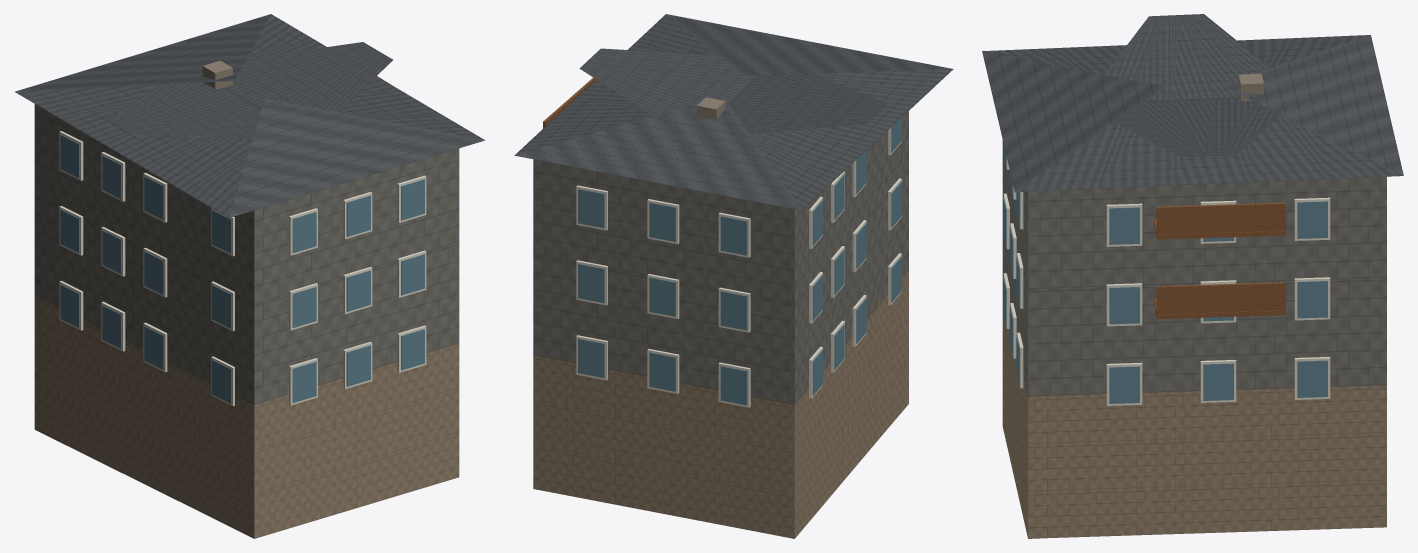
The model's file is core_0118.gltf.
The picture shows the model from 3 angles, left to right: view 1: azimuth 30°, elevation 25°; view 2: azimuth 150°, elevation 25°; view 3: azimuth 270°, elevation 25°; orthographic projection. The views are drawn at different scales.
Visible parts, largest first — view 1: core_0118; view 2: core_0118; view 3: core_0118.
Part boxes in pixels (x1=…): core_0118: x1=14, y1=14, x2=485, y2=538; core_0118: x1=514, y1=14, x2=953, y2=538; core_0118: x1=982, y1=14, x2=1403, y2=538.
Bounding box in the file's own units: 12.24 × 13.95 × 13.7.
Materials: 7 (7 with a texture image).
